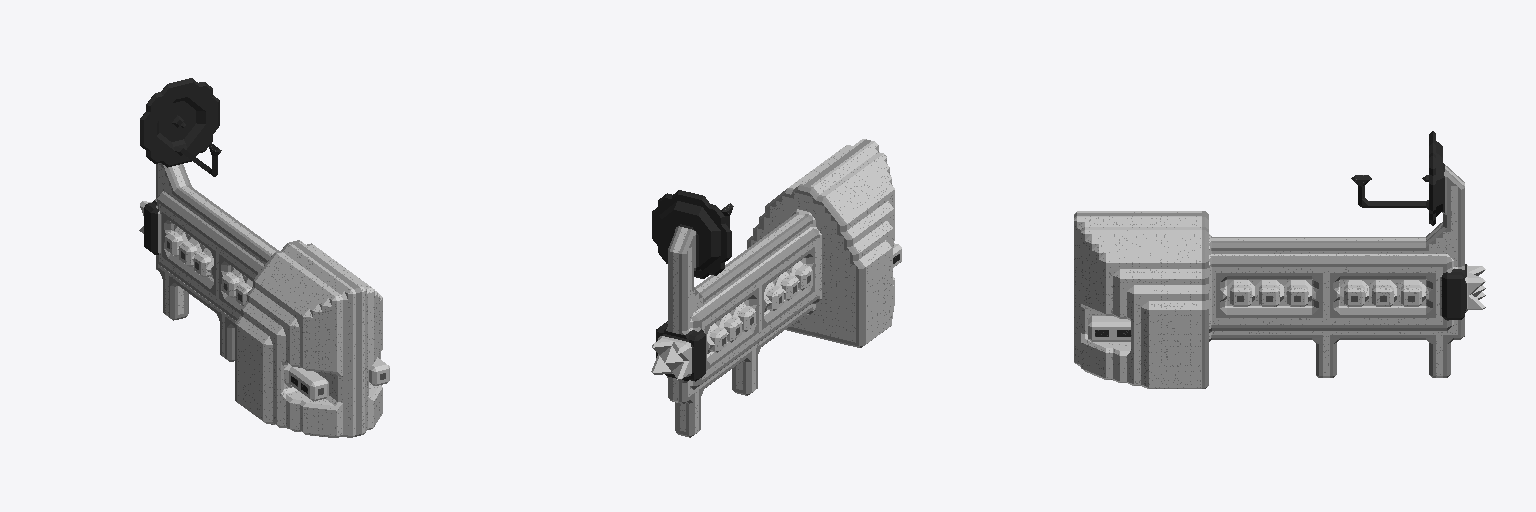
3 views of the same model, side by side, from view 1: azimuth 30°, elevation 25°; view 2: azimuth 150°, elevation 25°; view 3: azimuth 270°, elevation 25° (orthographic).
Size of the model in its own units: 19 by 37 by 58.
1 materials, 1 textured.